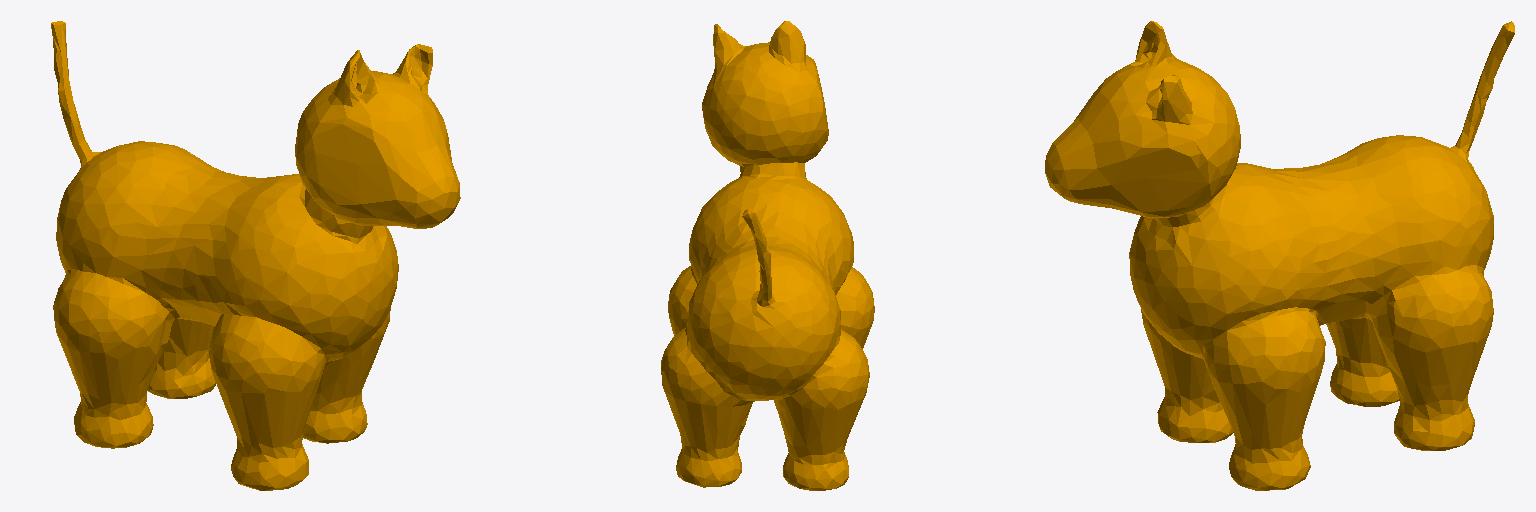
The robot description file, URDF, robot "27gwxc0c":
<?xml version='1.0'?>

<robot name="27gwxc0c">
    <static>false</static>
    <link name="link">
        <inertial>
            <mass value="0.11023480738115536"/>
            <inertia ixx="0.00014714186318782923" ixy="3.0394601904906363e-05" ixz="-1.7602077168994693e-05"
                     iyy="0.00010543225313601394" iyz="3.117392897374838e-05" izz="0.00011534142885182061"/>
        </inertial>
        <collision name="collision">
            <geometry>
                <mesh filename="package://miscnet/train/27gwxc0c/collision_model_vhacd.obj"/>
            </geometry>
        </collision>
        <visual name="visual">
            <geometry>
                <mesh filename="package://miscnet/train/27gwxc0c/visual_model.obj"/>
            </geometry>
        </visual>
    </link>
</robot>

--- What the picture shows (computed from the rendered views, not written in the file) ---
The picture shows the robot from 3 angles, left to right: view 1: azimuth 30°, elevation 25°; view 2: azimuth 150°, elevation 25°; view 3: azimuth 270°, elevation 25°; orthographic projection.
Model 27gwxc0c with 1 links and 0 joints (none), rooted at link, posed every joint at zero.
Visible links, largest first — view 1: link; view 2: link; view 3: link.
Boxes of the visible links, x1,y1,x2,y2 form: link: (51,21,460,490); link: (661,21,874,490); link: (1045,21,1514,490).
Size in the robot's own frame: 0.0841 by 0.1209 by 0.1257 metres.
Meshes: 1 distinct files referenced, 1 mesh visuals loaded (1 OBJ).
